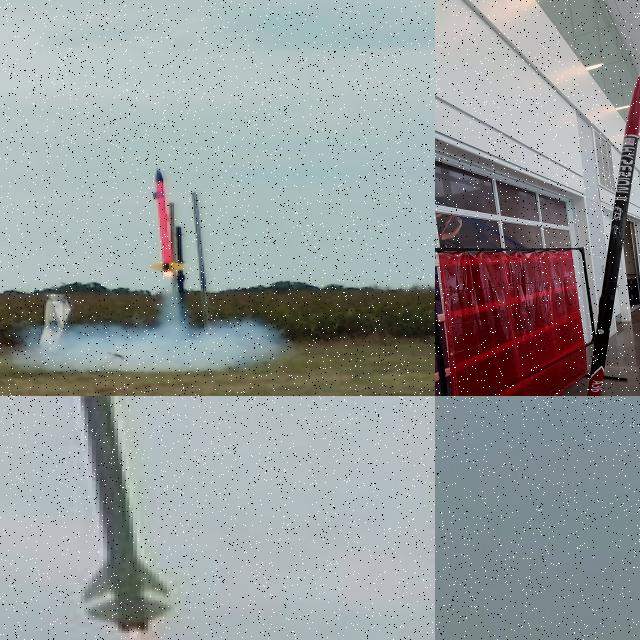Rocket: (39, 396, 182, 635), (587, 73, 640, 396), (147, 168, 187, 272)
